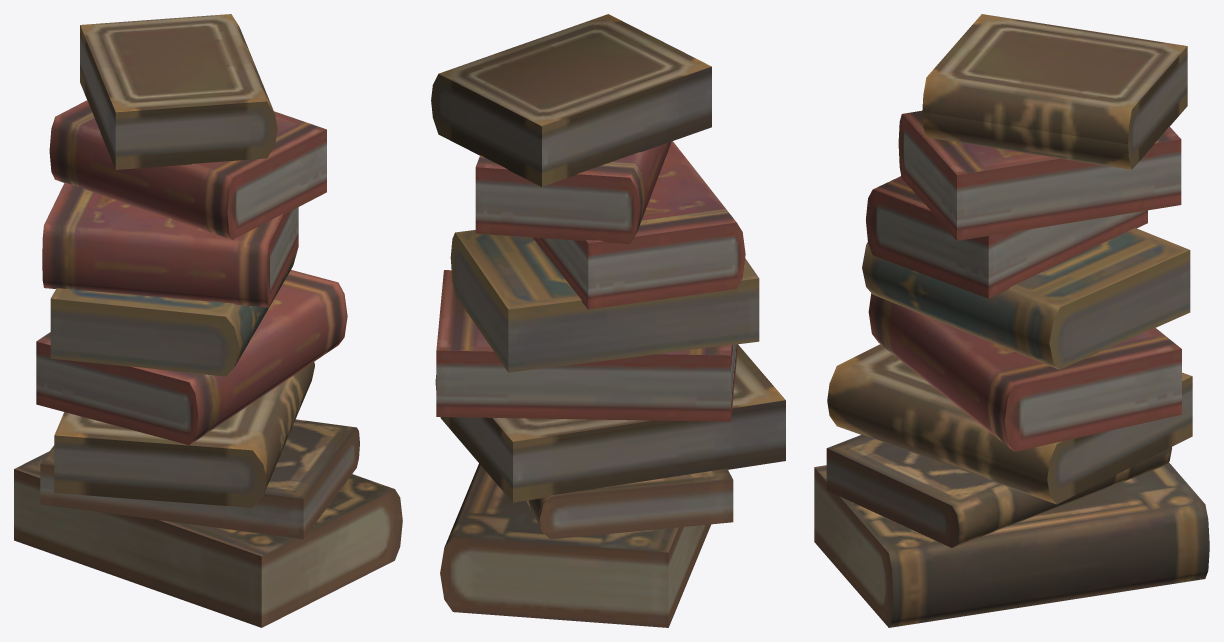
File: Homeworld_Interior_Md_Thing_Book_01_Vo.fbx
3 renders of one model, left to right at view 1: azimuth 30°, elevation 25°; view 2: azimuth 150°, elevation 25°; view 3: azimuth 270°, elevation 25°, orthographic. The views are drawn at different scales.
Visible parts, largest first — view 1: Indoor_MdProps_Library_Book12_Vo; view 2: Indoor_MdProps_Library_Book12_Vo; view 3: Indoor_MdProps_Library_Book12_Vo.
Part boxes in pixels (box(x1,y1,x2,y2)): Indoor_MdProps_Library_Book12_Vo: box(14, 14, 402, 627); Indoor_MdProps_Library_Book12_Vo: box(431, 14, 785, 627); Indoor_MdProps_Library_Book12_Vo: box(814, 14, 1209, 627).
Size of the model in its own units: 0.4989 by 0.7261 by 0.5267.
